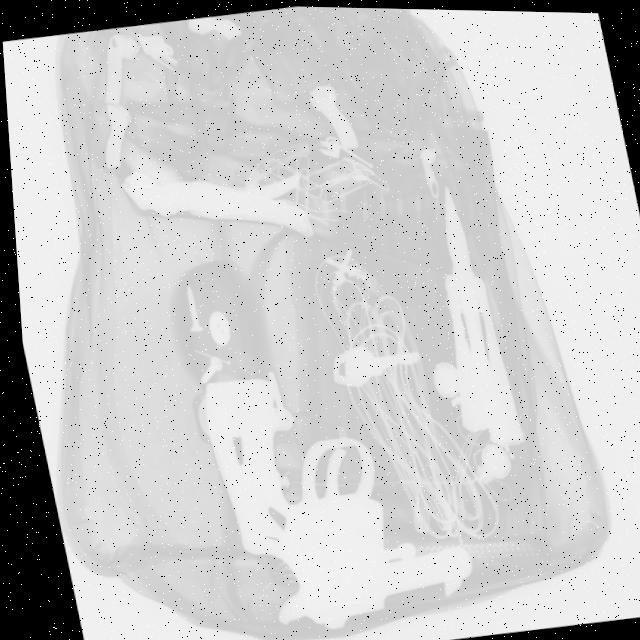knife: (415, 184, 520, 454)
pistol: (189, 350, 476, 640)
